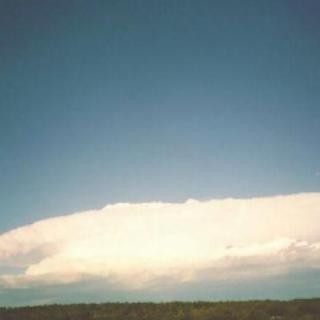Cumulonimbus: (0, 1, 320, 304)
